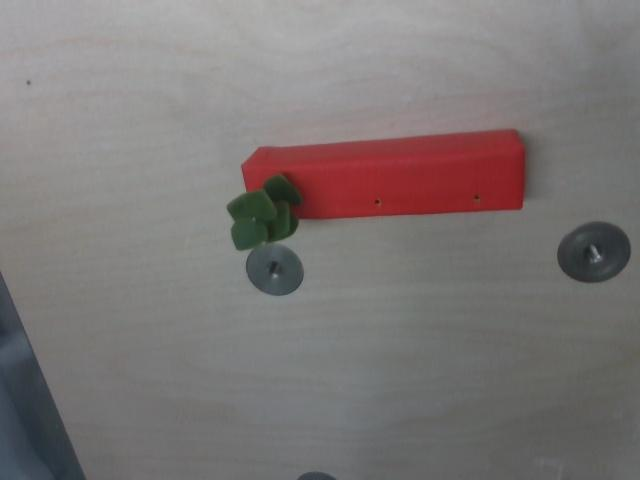leaf: (219, 167, 311, 256)
